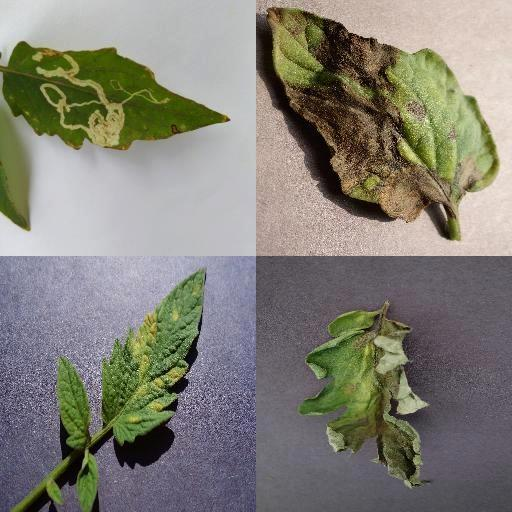Healthy: (57, 352, 92, 449), (77, 453, 99, 512)
Late Blight: (268, 4, 500, 226), (298, 306, 436, 492)
Leaf Miner: (0, 40, 233, 153)
Leaf Mold: (103, 265, 207, 447)
